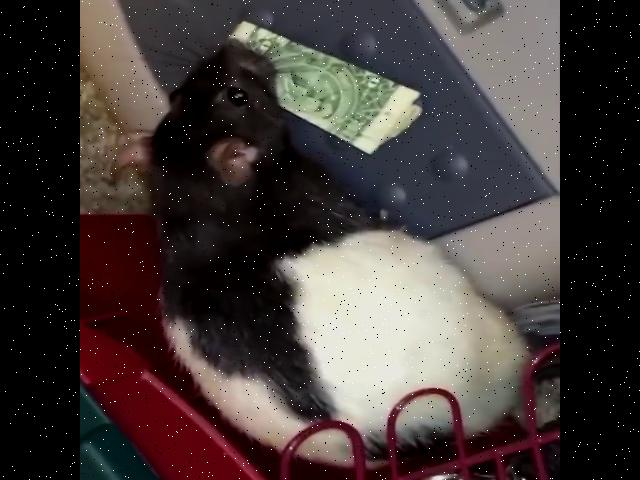Tikus: (132, 38, 510, 462)
